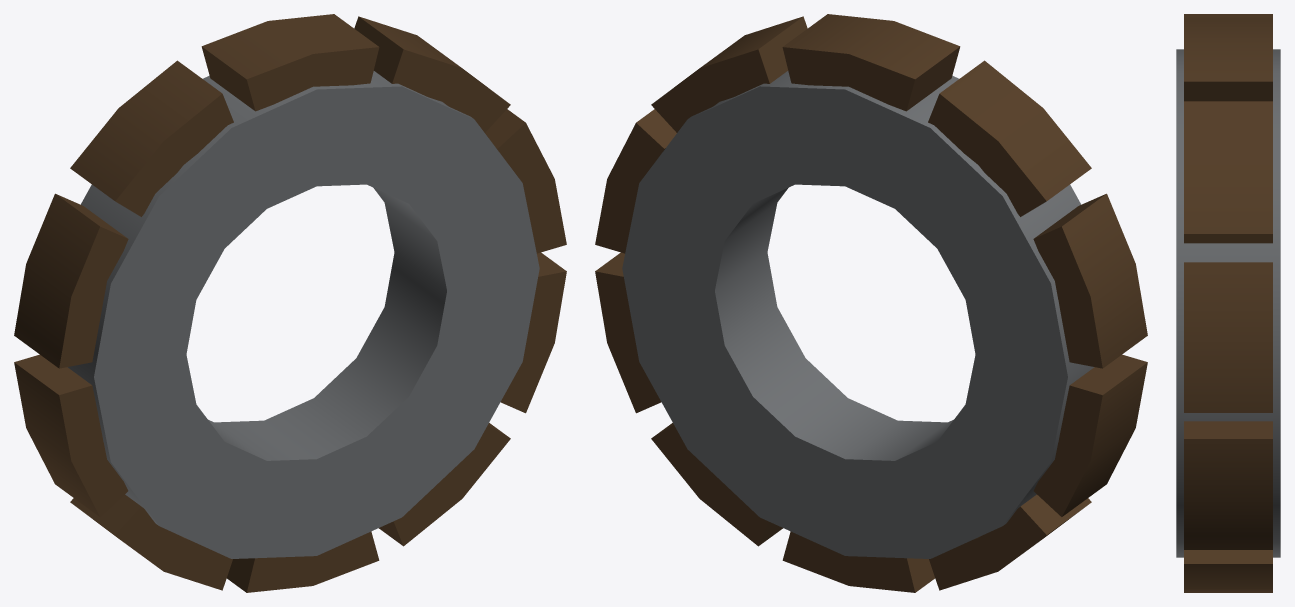
Rendered from u65m_coil_ring.obj.
The picture shows the model from 3 angles, left to right: view 1: azimuth 30°, elevation 25°; view 2: azimuth 150°, elevation 25°; view 3: azimuth 270°, elevation 25°; orthographic projection.
Parts seen in each view (by area): view 1: u65m_coil_ring; view 2: u65m_coil_ring; view 3: u65m_coil_ring.
Part boxes in pixels (left/top/right/bottom): u65m_coil_ring: left=14, top=14, right=566, bottom=592; u65m_coil_ring: left=595, top=14, right=1147, bottom=592; u65m_coil_ring: left=1176, top=14, right=1280, bottom=592.
Size of the model in its own units: 3.9 by 3.9 by 0.7.
